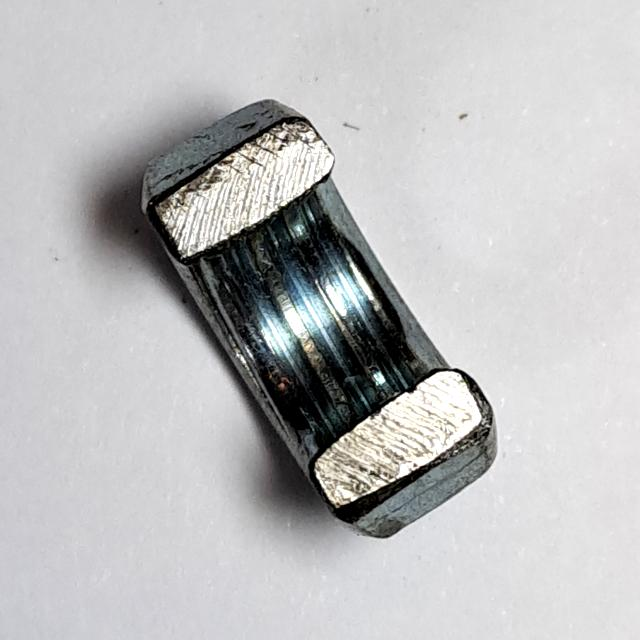Side-Fracture: (128, 85, 513, 562)
